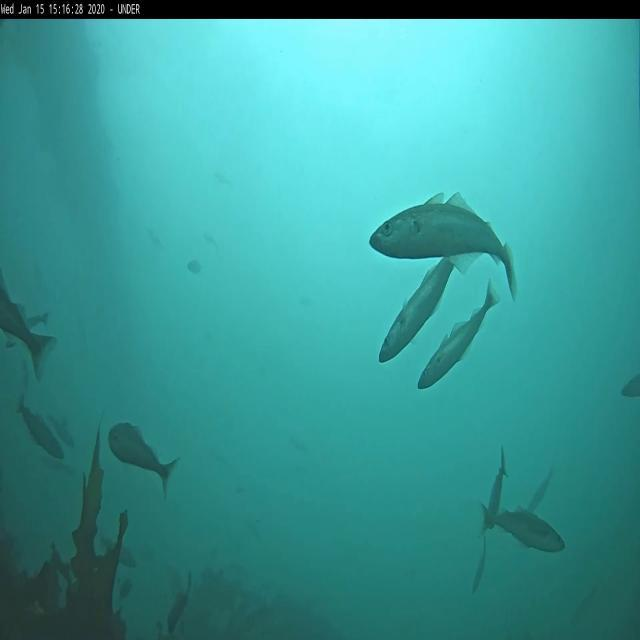fish: (372, 191, 517, 303), (417, 281, 502, 390), (379, 256, 455, 365), (0, 278, 56, 386), (108, 421, 180, 498), (484, 505, 568, 551), (17, 398, 64, 460), (486, 445, 508, 531), (5, 311, 50, 347), (98, 532, 136, 568), (528, 464, 556, 511), (472, 532, 488, 596), (46, 414, 73, 444), (620, 374, 639, 398), (200, 227, 217, 252), (186, 260, 203, 272)
